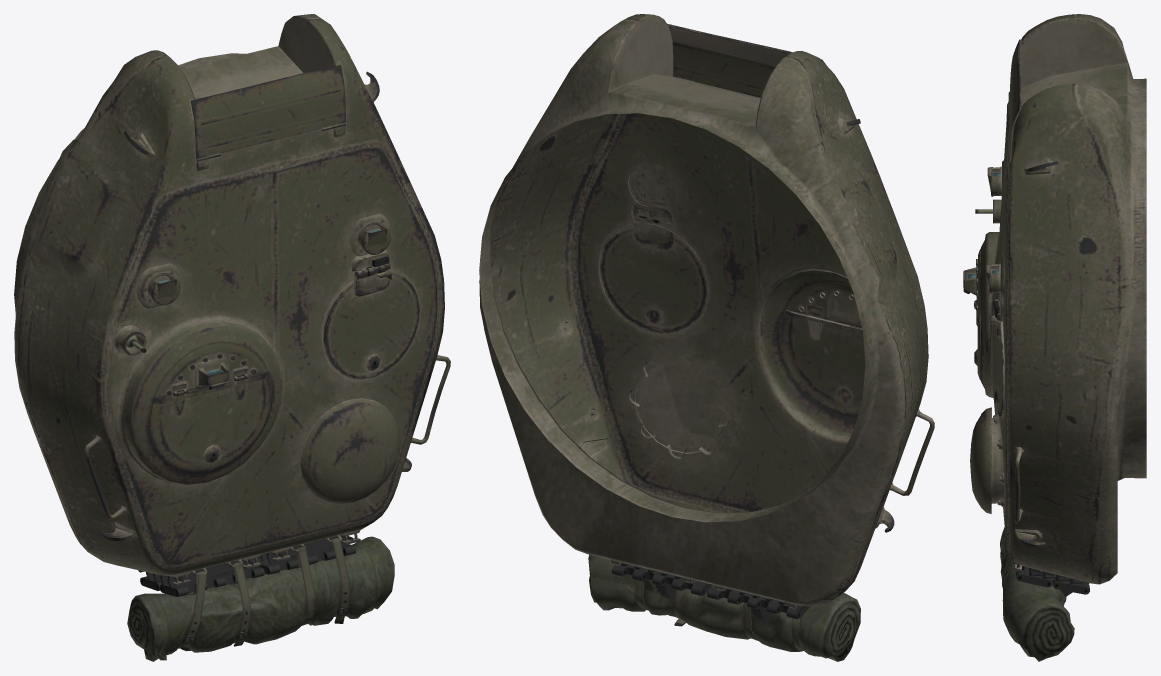
File: Turret_01.glb
3 renders of one model, left to right at view 1: azimuth 30°, elevation 25°; view 2: azimuth 150°, elevation 25°; view 3: azimuth 270°, elevation 25°, orthographic. The views are drawn at different scales.
Visible parts, largest first — view 1: set_0_group_0; view 2: set_0_group_0; view 3: set_0_group_0.
Boxes of the visible parts, x1=… form: set_0_group_0: x1=14, y1=14, x2=450, y2=661; set_0_group_0: x1=479, y1=14, x2=934, y2=661; set_0_group_0: x1=963, y1=14, x2=1146, y2=661.
Bounding box in the file's own units: 2.2 × 3.05 × 0.9079.
1 material, 1 textured.
